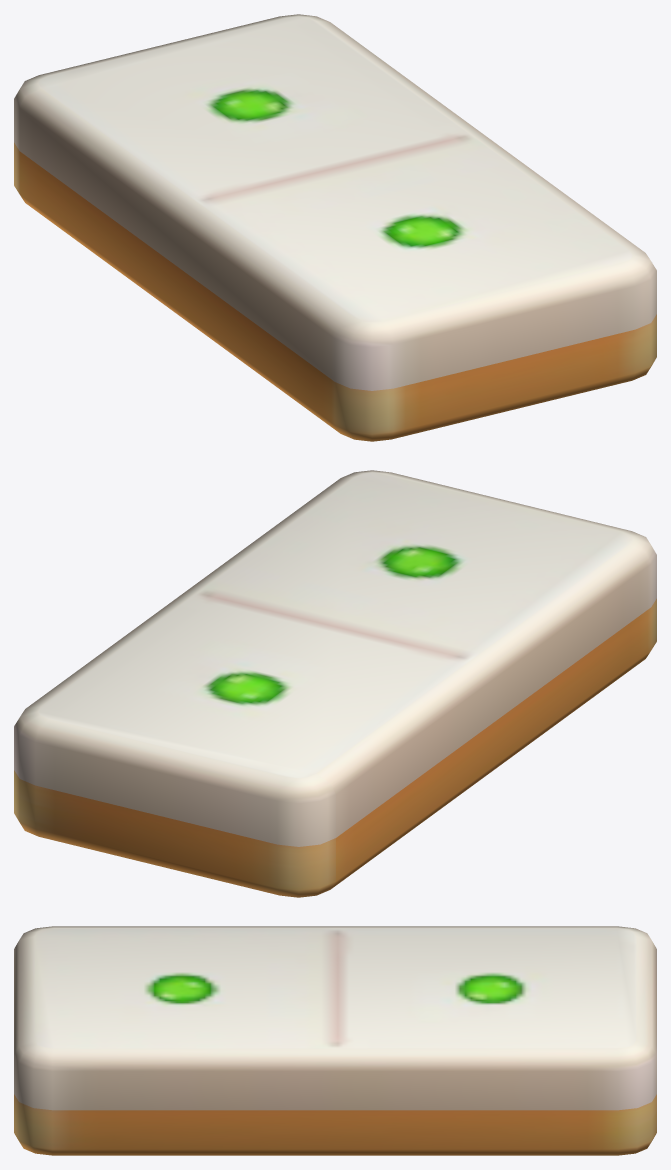
File: Domino.gltf
3 views of the same model, one above another, from view 1: azimuth 30°, elevation 25°; view 2: azimuth 150°, elevation 25°; view 3: azimuth 270°, elevation 25° (orthographic). The views are drawn at different scales.
Parts seen in each view (by area): view 1: piece1_1; view 2: piece1_1; view 3: piece1_1.
Part boxes in pixels (x1,y1,x2,y2): piece1_1: (14,14,656,441); piece1_1: (14,470,656,897); piece1_1: (14,926,656,1155).
Size of the model in its own units: 2.3 by 0.8122 by 4.5.
1 material, 1 textured.
